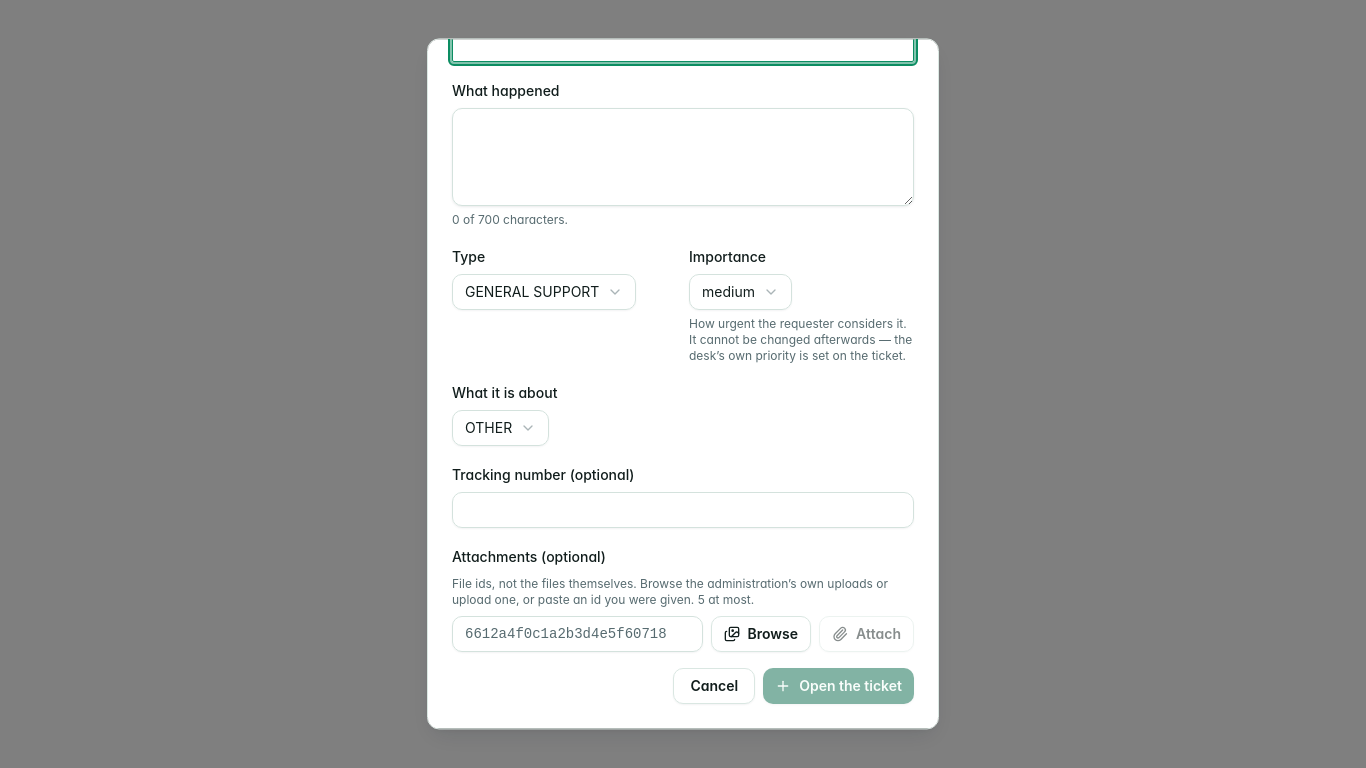
attachments are ids, not uploads › refuses anything that is not a 24-hex id
(page scrolled)
In the field labelled "Attachments (optional)": (577, 634) [452,616,702,652], type "not-an-id"
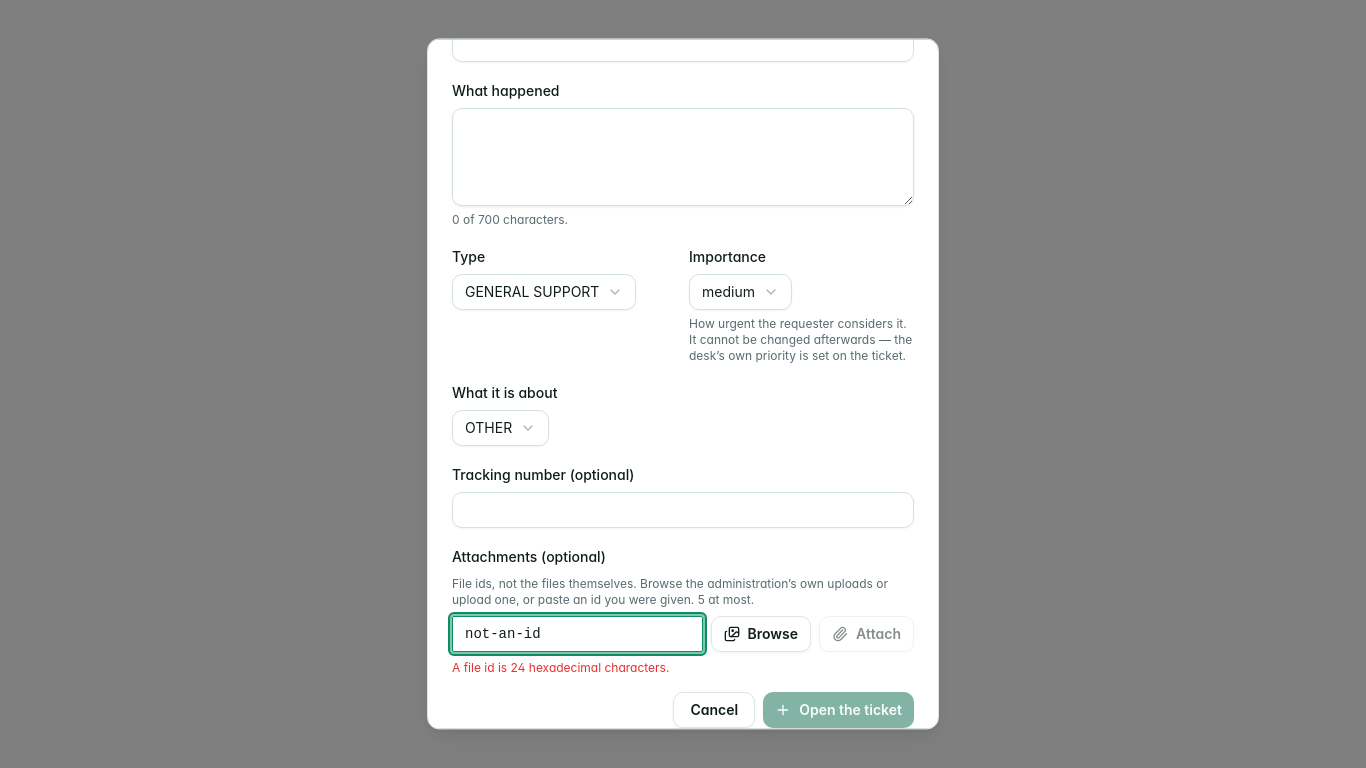
Check: the button "Attach" is disabled, box [819,616,914,652]
Check: the text "A file id is 24 hexadecimal characters." is shown, box [452,660,669,675]
